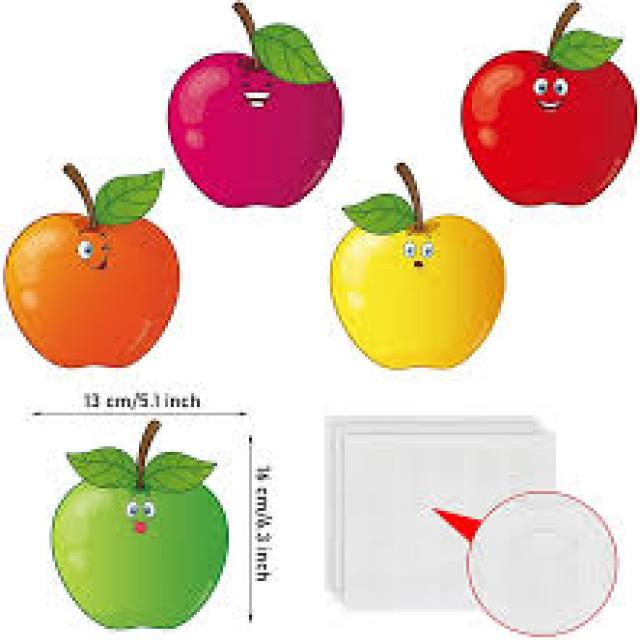Apple: (56, 441, 228, 629), (461, 51, 637, 206)
